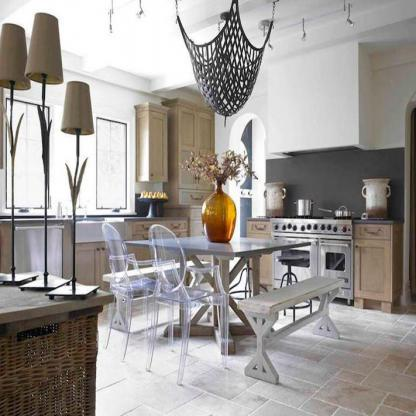chair: (142, 222, 232, 382), (96, 215, 160, 360)
light: (22, 16, 63, 296), (53, 74, 102, 305), (0, 9, 26, 292)
table: (127, 232, 314, 351)
